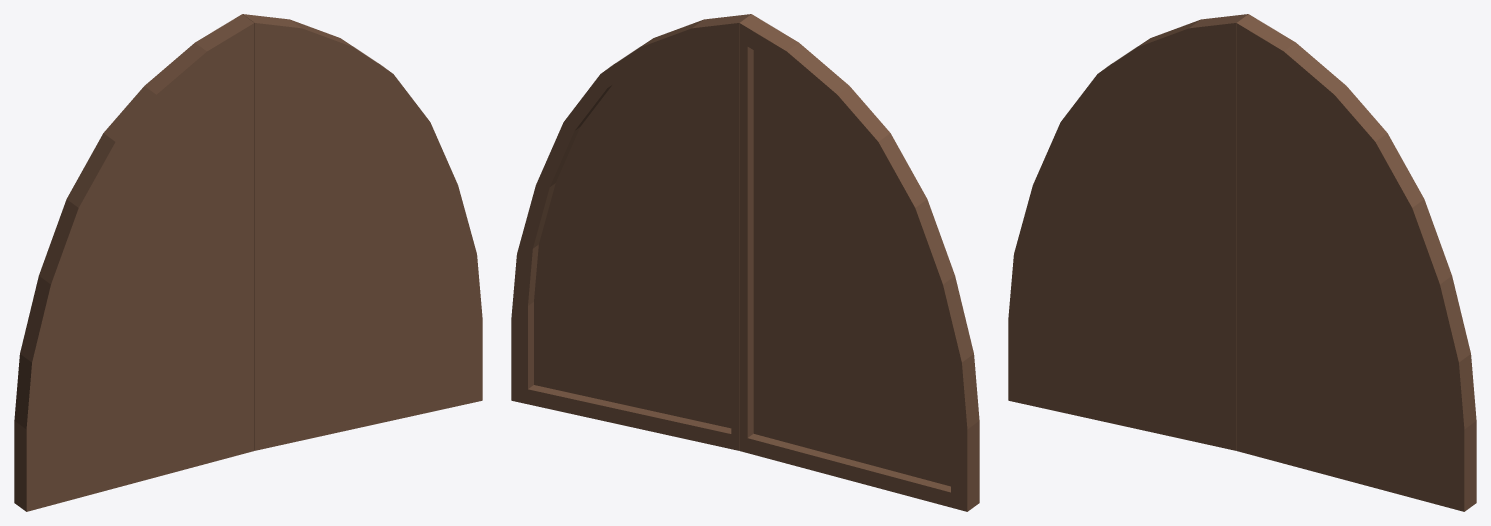
File: university-doors.glb
3 renders of one model, left to right at view 1: azimuth 30°, elevation 25°; view 2: azimuth 150°, elevation 25°; view 3: azimuth 330°, elevation 25°, orthographic.
Visible parts, largest first — view 1: right_door, left_door; view 2: right_door, left_door; view 3: left_door, right_door.
Part boxes in pixels (x1,y1,x2,y2): right_door: (14, 14, 254, 511); left_door: (243, 14, 482, 450); right_door: (739, 14, 979, 511); left_door: (511, 14, 750, 450); left_door: (1236, 14, 1476, 511); right_door: (1008, 14, 1247, 450).
Size of the model in its own units: 6.8 by 6.17 by 0.3137.
